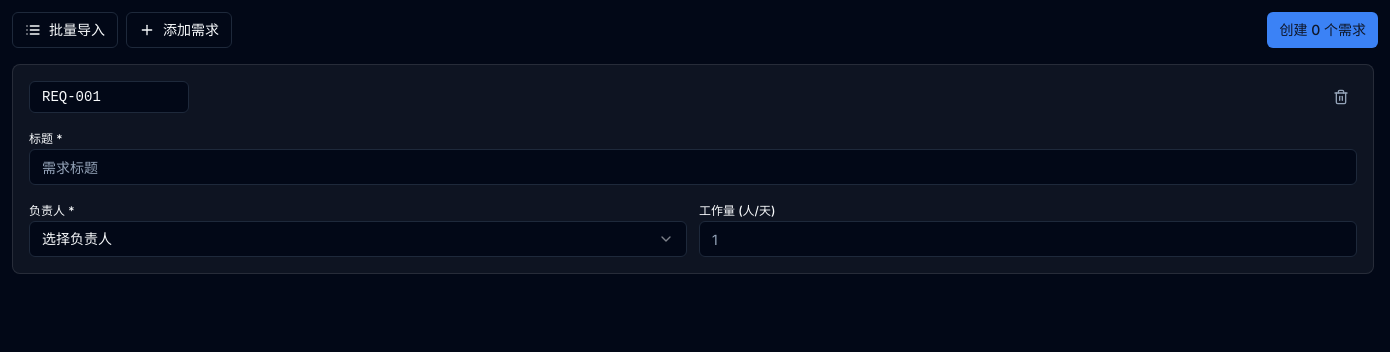
Scenario: CreateRequirementsStep › Fallback 逻辑 - assignees 为空但 users 有数据 › 应该使用 users 数据作为负责人选项
The width and height of the screenshot is (1390, 352).
Expected: the button "批量导入" is shown, [12,12,118,48]
验证下拉框中有从 users 获取的负责人选项
Click the dropdown "选择负责人": point(77, 238) [29,221,687,257]
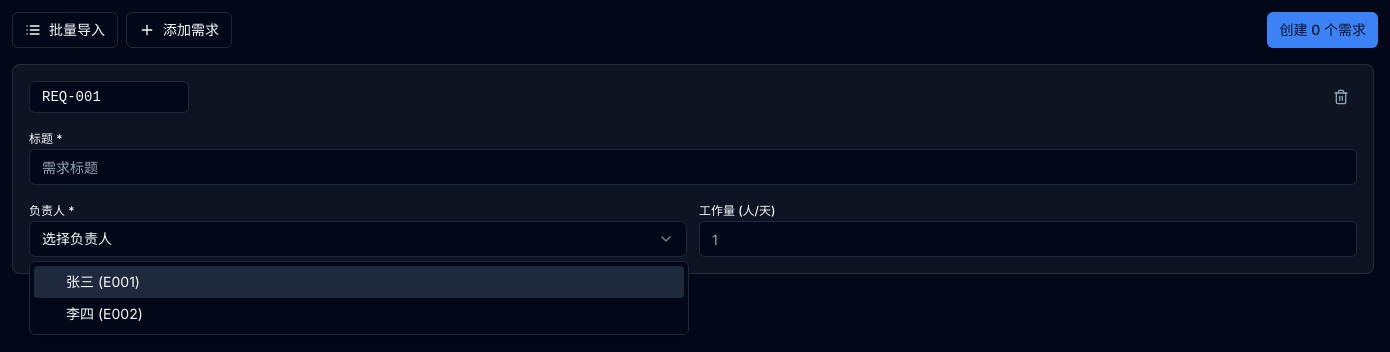
Expected: the text "张三 (E001)" is shown, [66,272,140,292]
Expected: the text "李四 (E002)" is shown, [66,304,143,324]
